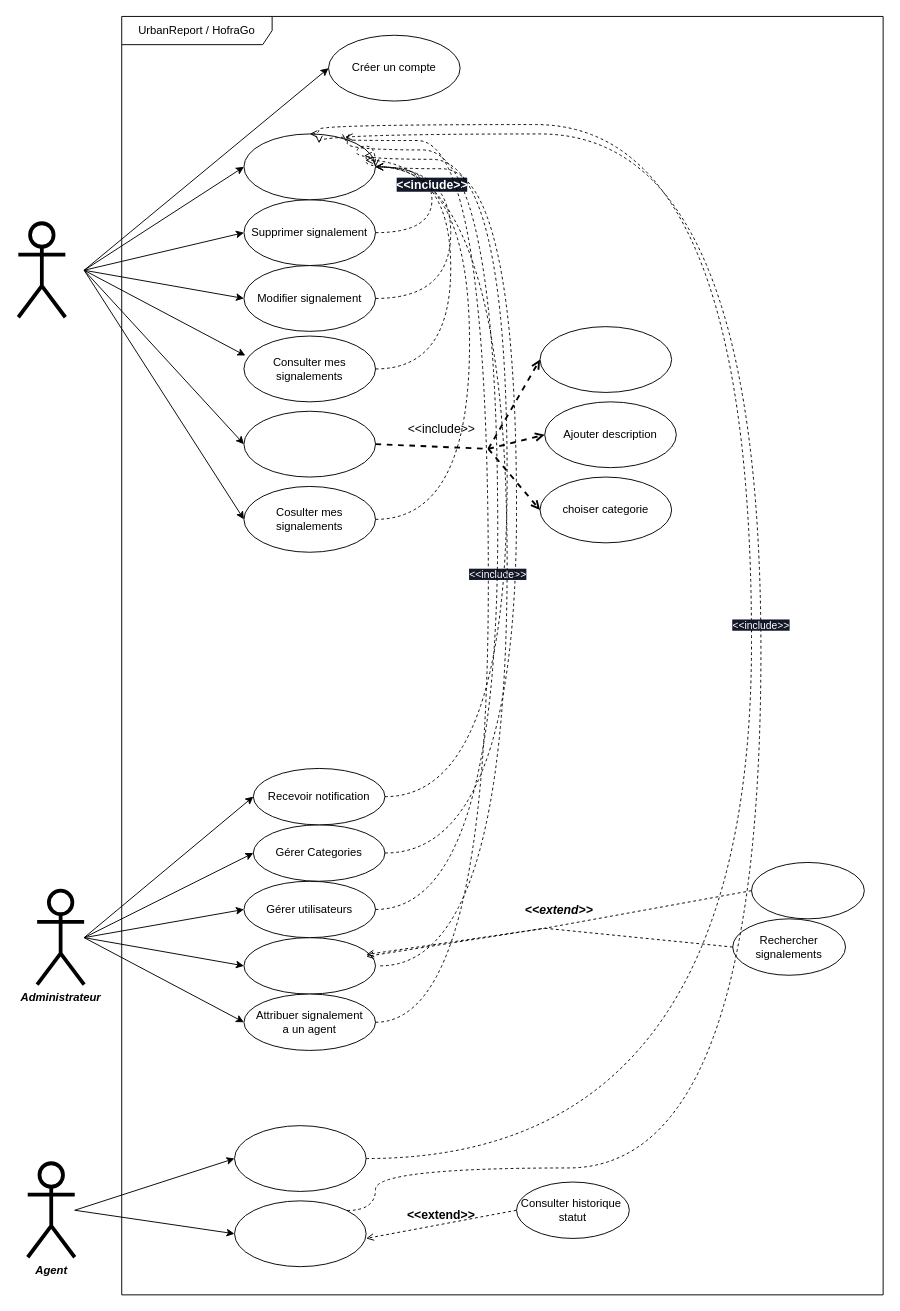
This 900x1311 diagram has some shape labels left out. Each missing label, with the centre of its shape:
Ajouter photo: point (605, 359)
Citoyen: point (41, 270)
Consulter liste des signalements: point (309, 965)
Consulter signalements assignés: point (300, 1158)
Filtrer(type/statut): point (807, 890)
Mettre à jour statut: point (300, 1233)
Signaler un problème: point (309, 443)
S’authentifier: point (309, 166)
